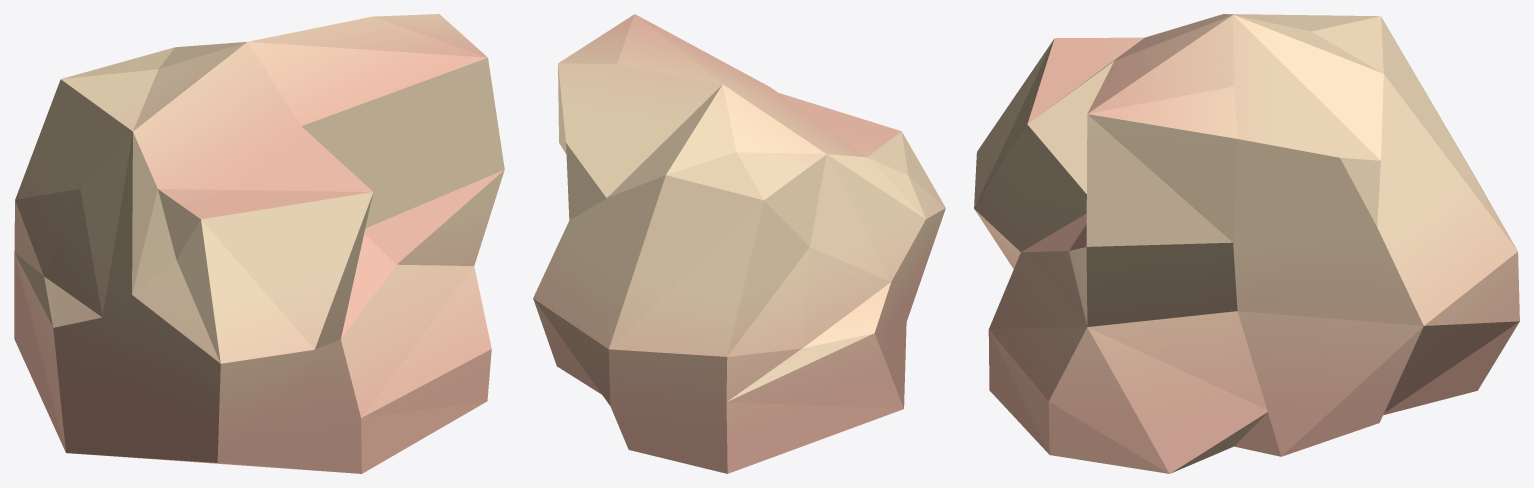
The model's file is Stones1.fbx.
The picture shows the model from 3 angles, left to right: view 1: azimuth 30°, elevation 25°; view 2: azimuth 150°, elevation 25°; view 3: azimuth 270°, elevation 25°; orthographic projection. The views are drawn at different scales.
Parts seen in each view (by area): view 1: Stones1; view 2: Stones1; view 3: Stones1.
Part boxes in pixels (x1,y1,x2,y2): Stones1: (14, 14, 504, 473); Stones1: (533, 14, 945, 473); Stones1: (974, 14, 1519, 473).
Size of the model in its own units: 105 by 89.93 by 118.
